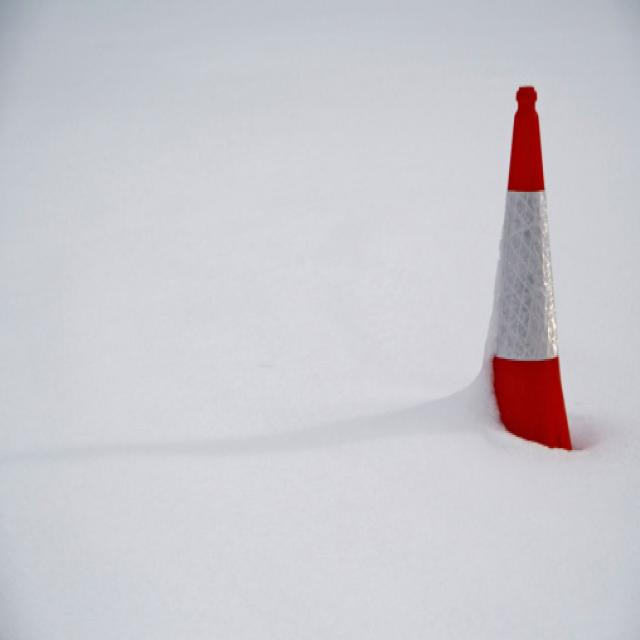cone: (476, 80, 590, 454)
